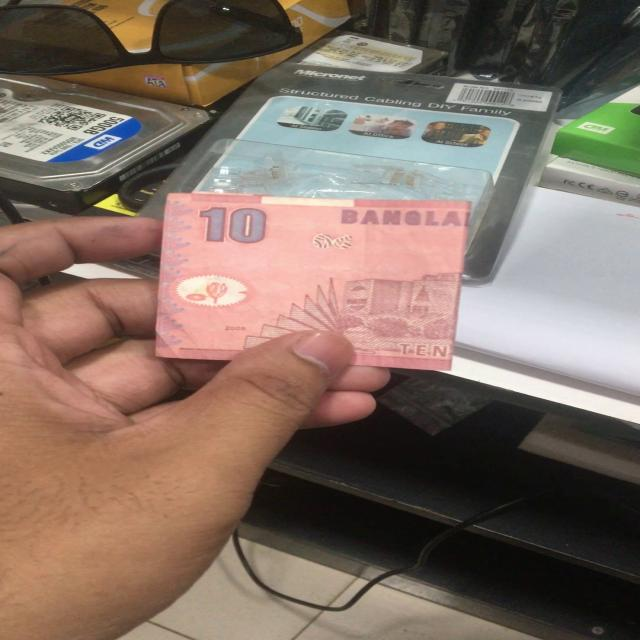Taka: (163, 191, 467, 376)
